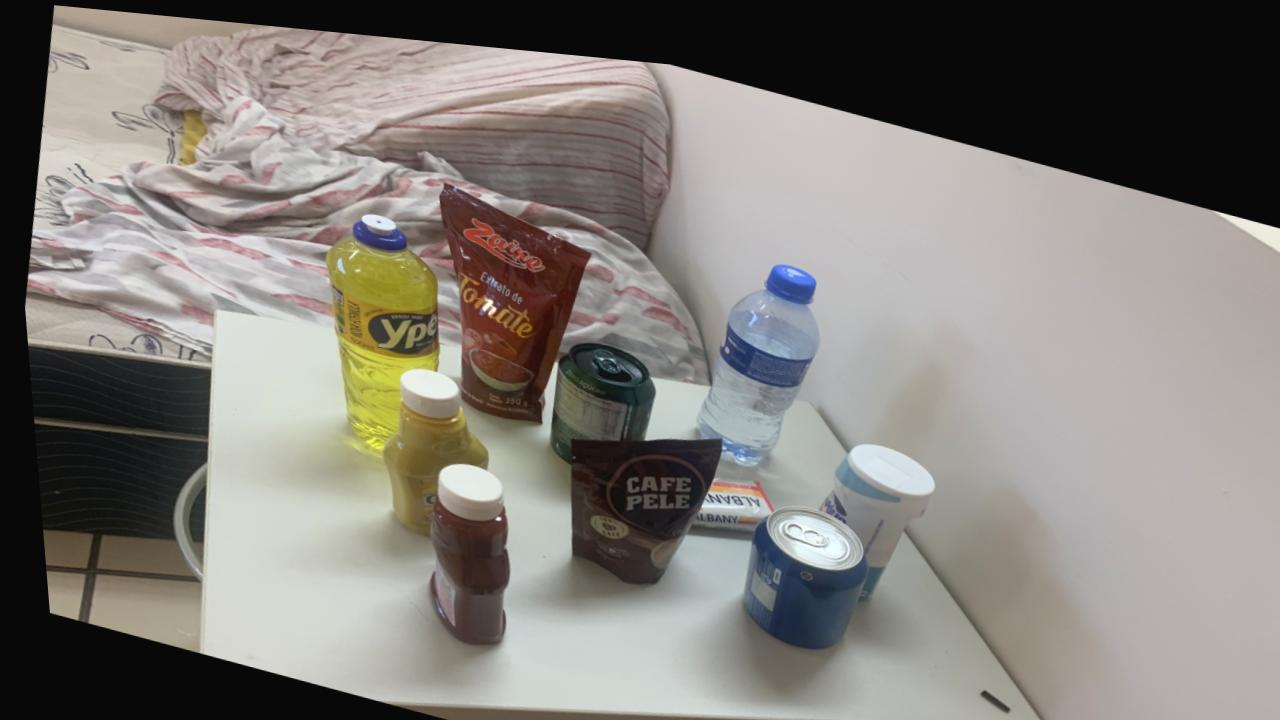Cleaner-Cleanup_Items: (812, 426, 928, 583)
Coffee-Pantry_Items: (562, 425, 714, 571)
Detergent-Cleanup_Items: (321, 206, 434, 441)
Guarana_Can-Drinks: (542, 331, 649, 450)
Ketchup-Pantry_Items: (420, 454, 501, 635)
Mustard-Pantry_Items: (374, 360, 482, 527)
Soap-Cleanup_Items: (685, 466, 766, 516)
Tomato_Sauce-Pantry_Items: (436, 174, 587, 412)
Tonic-Drinks: (734, 490, 860, 633)
Water_Bottle-Drinks: (691, 248, 814, 451)
